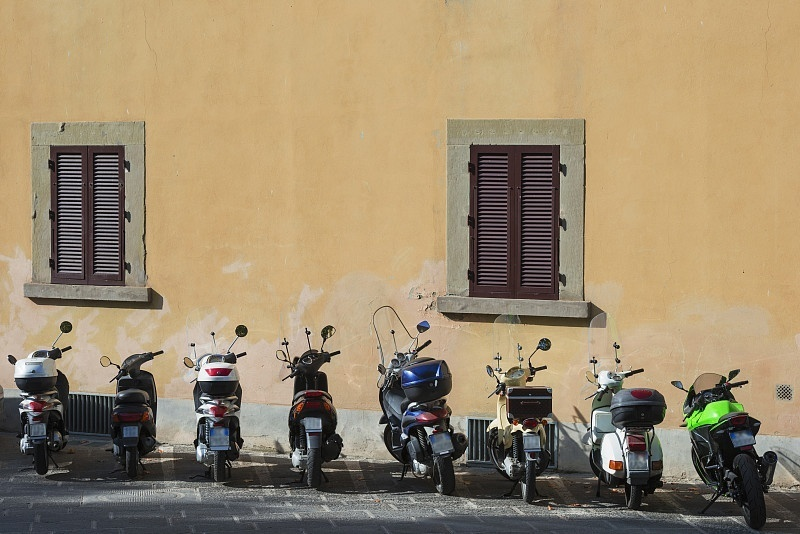non-vehicle: (675, 370, 773, 524), (374, 316, 459, 493), (576, 354, 665, 504), (481, 336, 558, 494), (277, 330, 345, 488), (181, 326, 248, 477), (7, 329, 74, 468), (104, 349, 165, 472)
